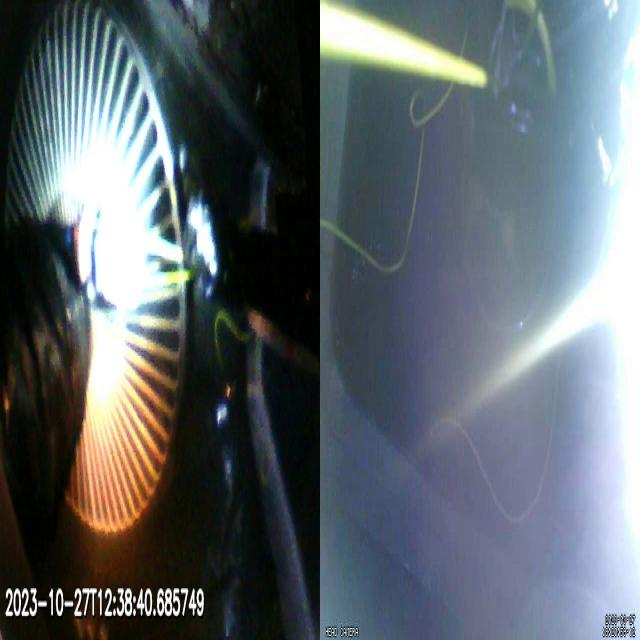head: (76, 200, 144, 309)
